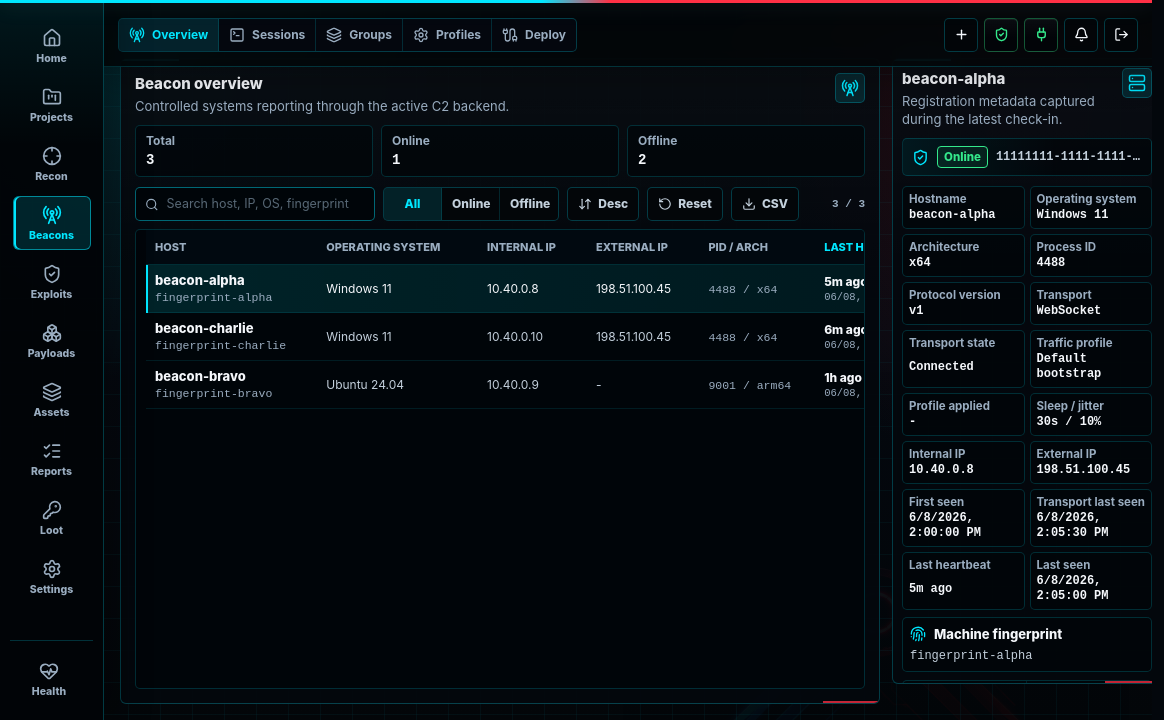
it: BeaconsPage › renders beacon roster and selected metadata detail
(page scrolled)
Expected: the text "beacon-alpha" in the row of "WebSocket" is shown, [155,272,245,288]
Expected: the text "Windows 11" is shown 2 times, [317,264,478,312]; [317,312,478,360]
Step 1. Click the row named "Host beacon-bravo" → x=649, y=384, box [146,360,1152,408]
(page scrolled)
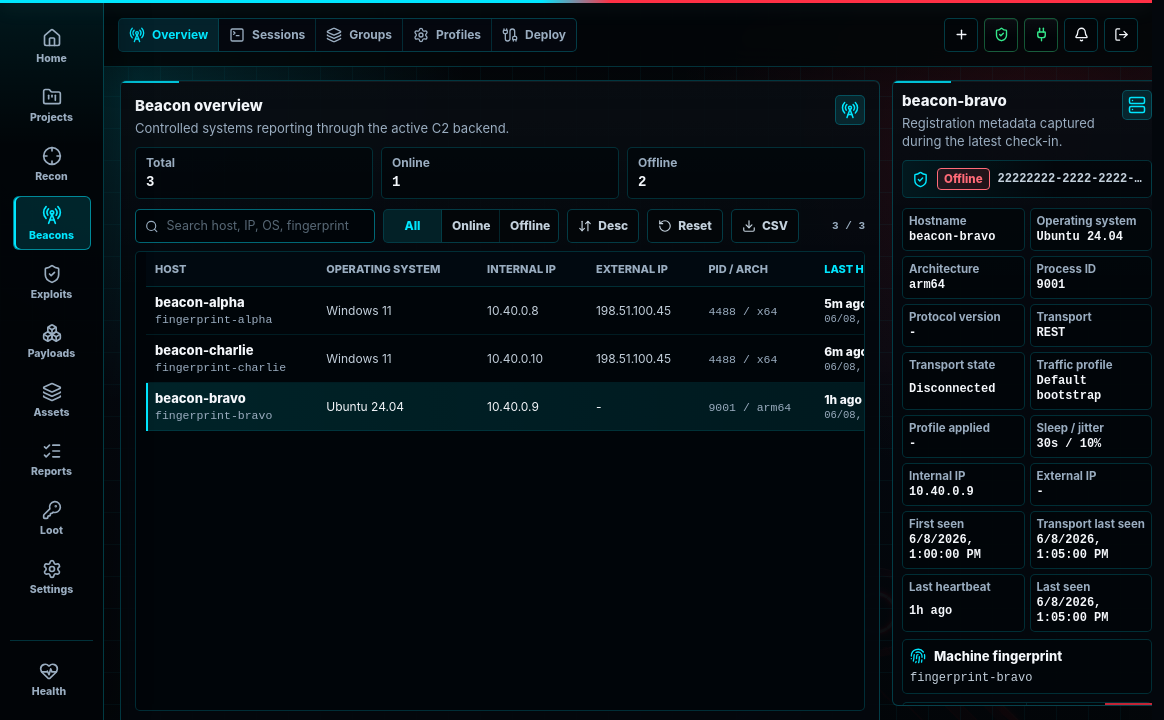
Expected: the text with test id "beacon-detail-transport-mode" reads "REST", [1036,326,1065,340]
Expected: the text with test id "beacon-detail-transport-state" reads "Disconnected", [909,382,995,396]
Step 2. Click the row named "Host beacon-charlie" → x=649, y=358, box [146,334,1152,382]
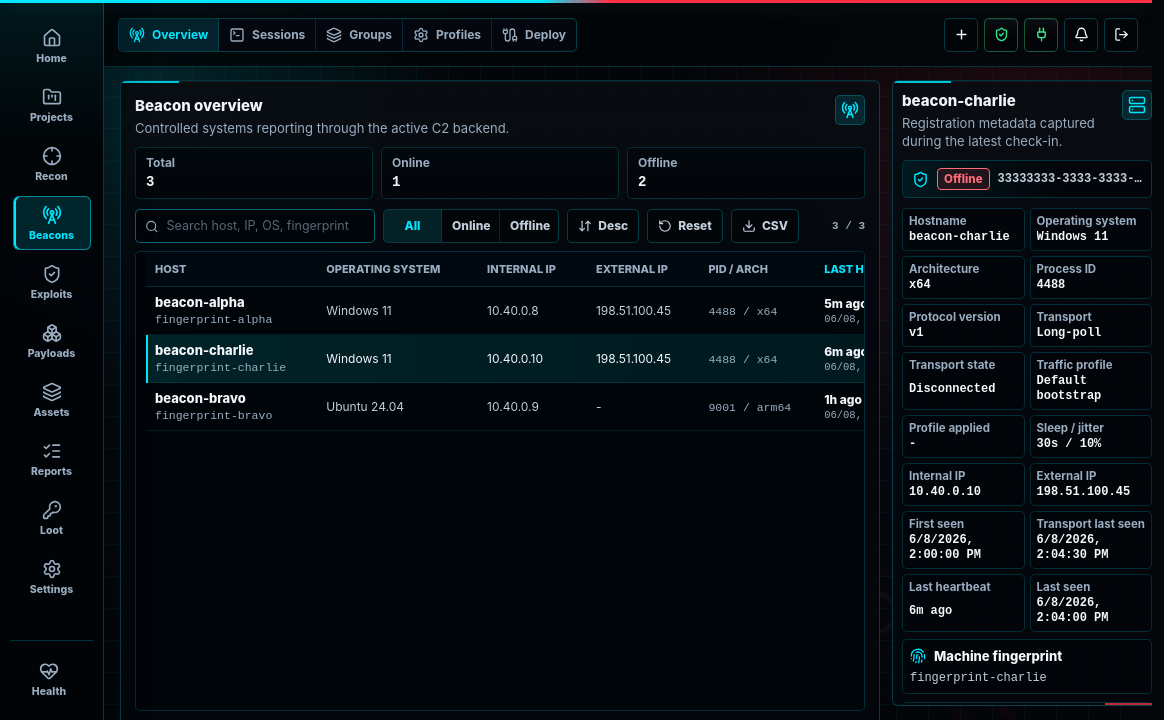
Expected: the text with test id "beacon-detail-transport-state" reads "Disconnected", [909,382,995,396]
Expected: the text with test id "beacon-detail-transport-mode" reads "Long-poll", [1036,326,1101,340]
